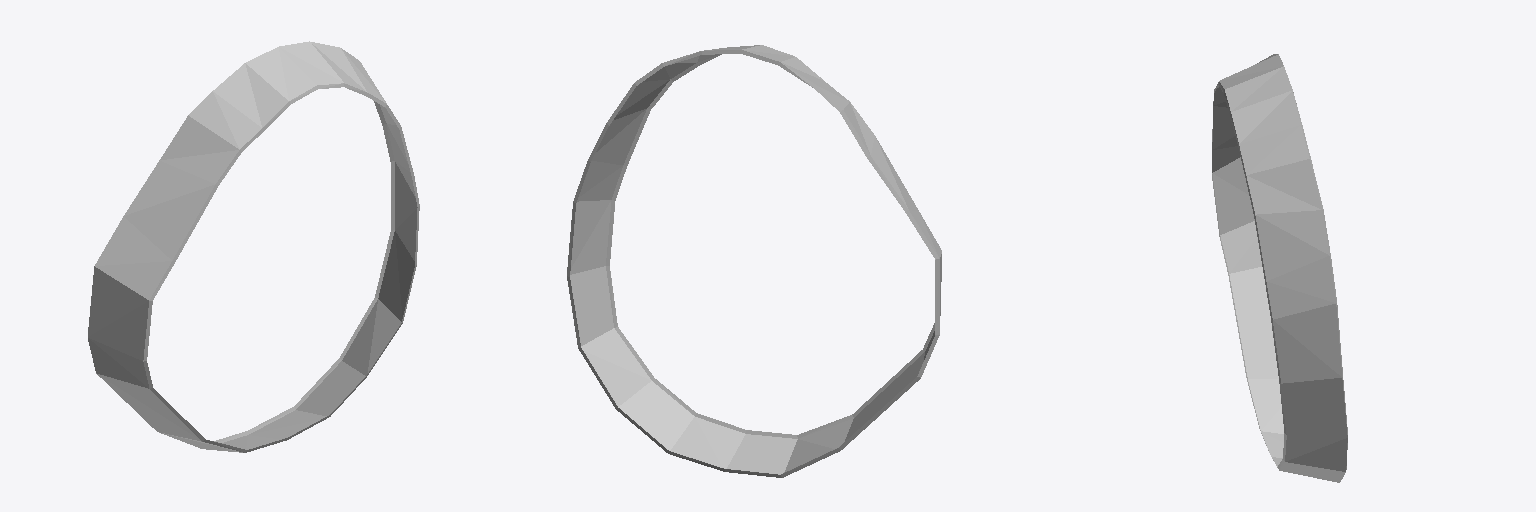
The model's file is RangerHelmBand.obj.
3 views of the same model, side by side, from view 1: azimuth 30°, elevation 25°; view 2: azimuth 150°, elevation 25°; view 3: azimuth 270°, elevation 25° (orthographic).
Visible parts, largest first — view 1: Stealth_Helmet:0.00; view 2: Stealth_Helmet:0.00; view 3: Stealth_Helmet:0.00.
Part boxes in pixels (x1,y1,x2,y2): Stealth_Helmet:0.00: (88, 41, 419, 452); Stealth_Helmet:0.00: (567, 45, 941, 477); Stealth_Helmet:0.00: (1212, 54, 1347, 482).
Bounding box in the file's own units: 14.38 × 16.3 × 4.99.